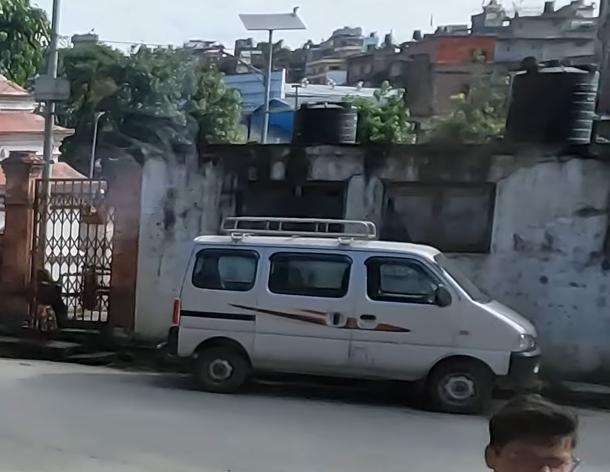van: (162, 204, 550, 421)
